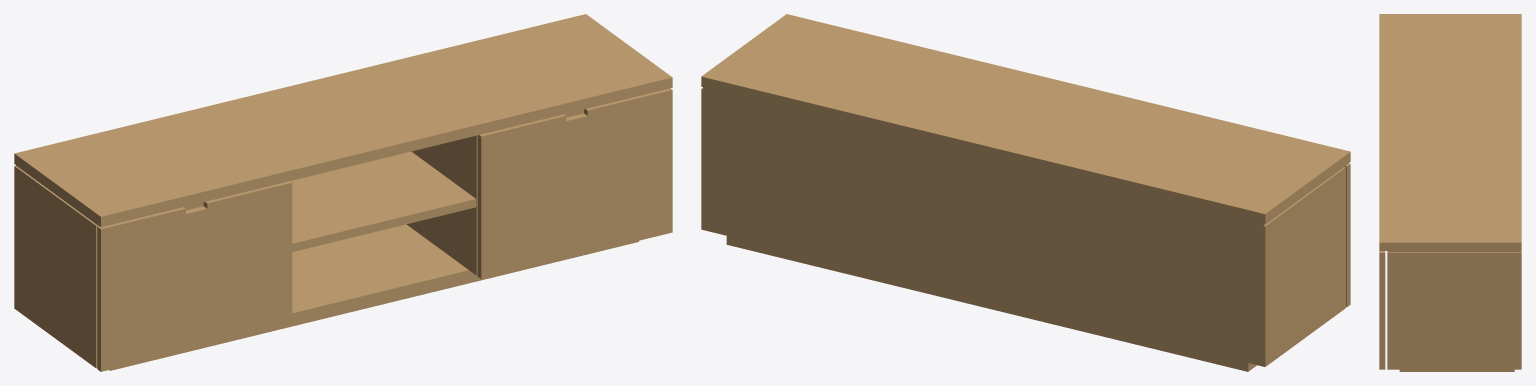
3 views of the same model, side by side, from view 1: azimuth 30°, elevation 25°; view 2: azimuth 150°, elevation 25°; view 3: azimuth 270°, elevation 25° (orthographic). The views are drawn at different scales.
Visible parts, largest first — view 1: tvCabinet2; view 2: tvCabinet2; view 3: tvCabinet2.
Boxes of the visible parts, x1=… form: tvCabinet2: x1=14, y1=14, x2=672, y2=371; tvCabinet2: x1=701, y1=14, x2=1350, y2=371; tvCabinet2: x1=1379, y1=14, x2=1521, y2=371.
Size of the model in its own units: 160 by 45 by 42.
